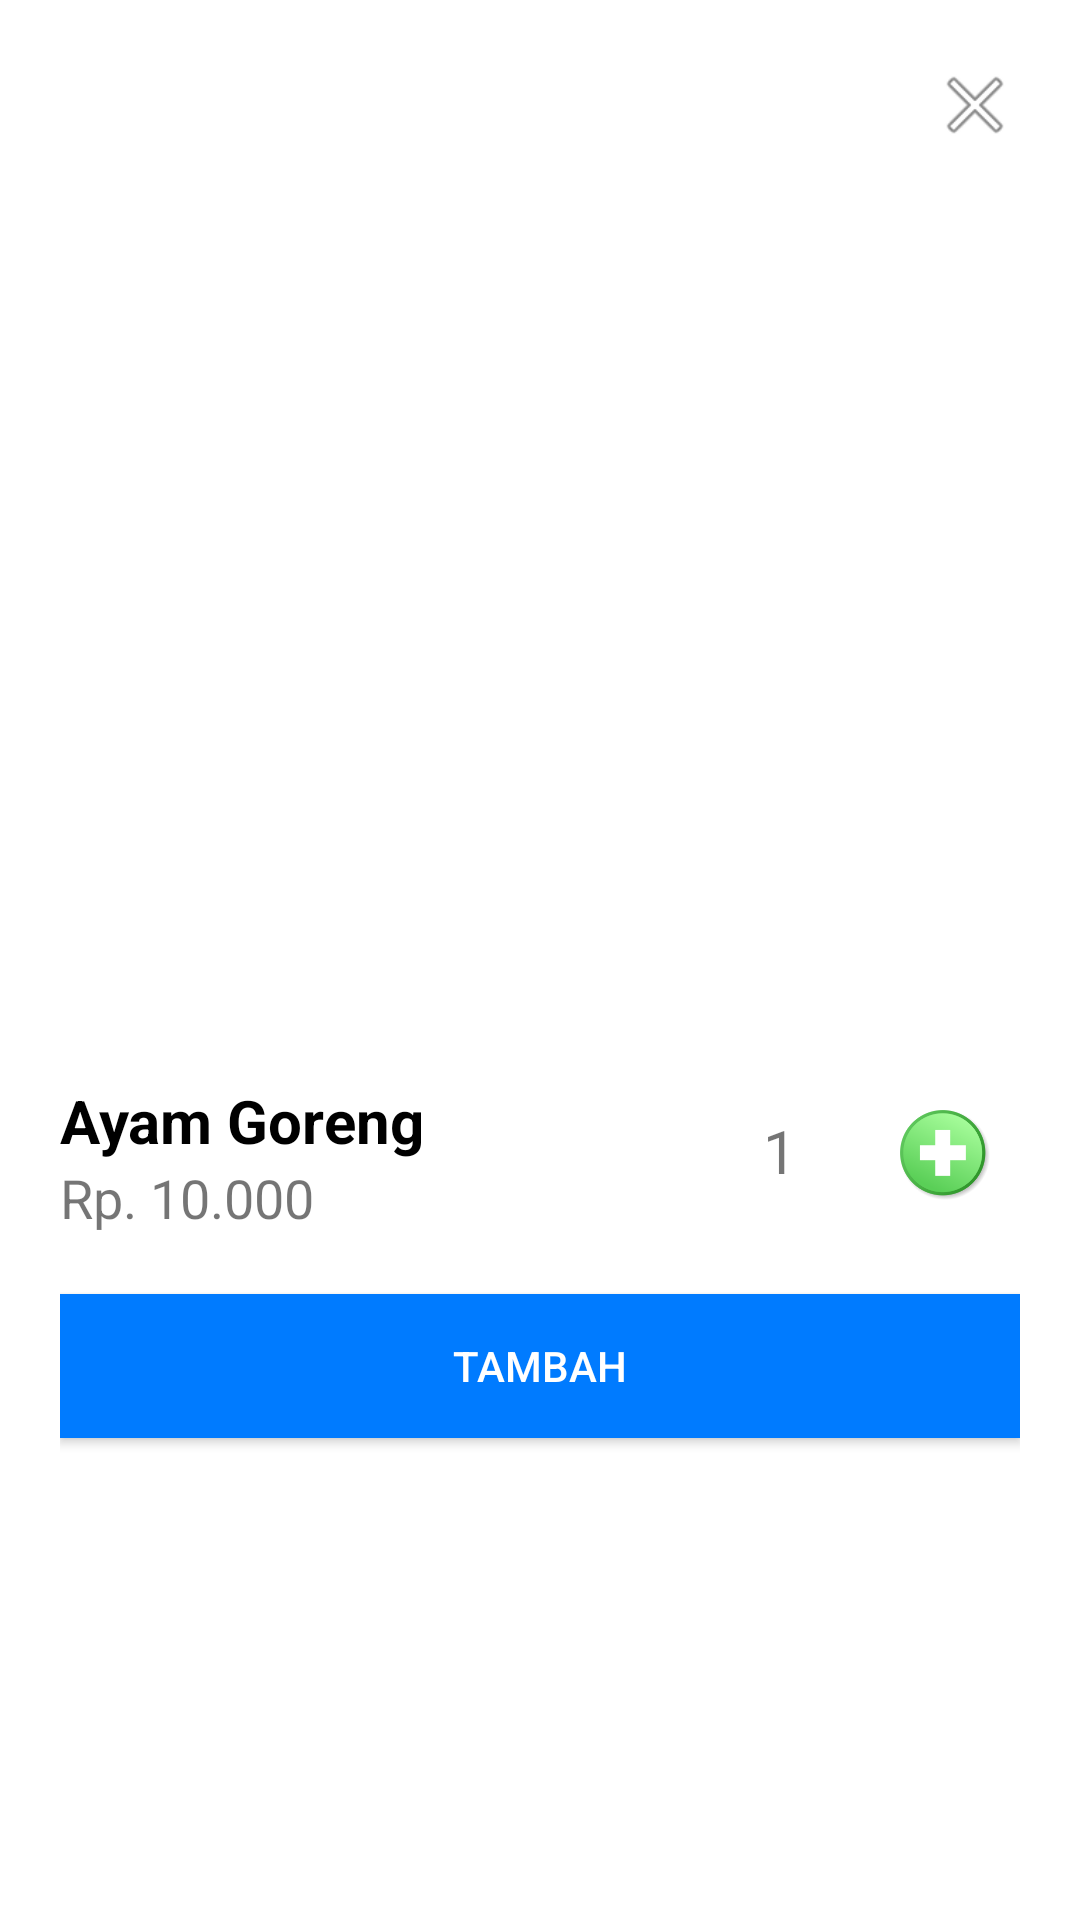

Named icons in this screenshot (1080px x 1920px) and their bounding boxes, (x1,y1,x2,y2):
close clear cancel: (947,77,1003,133)
plus: (900,1110,988,1198)
